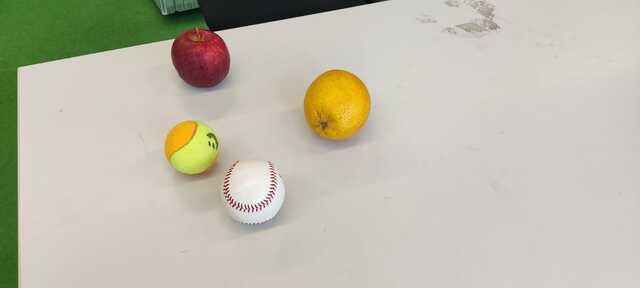013_apple: (170, 27, 229, 86)
017_orange: (302, 69, 368, 139)
055_baseball: (221, 159, 286, 225)
056_tennis_ball: (163, 121, 219, 175)
